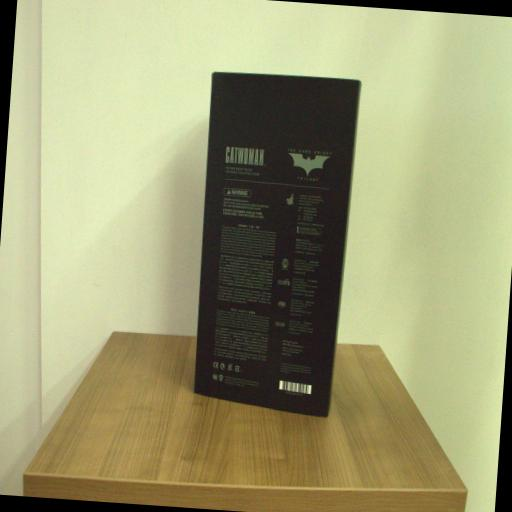catwoman: (188, 68, 363, 419)
